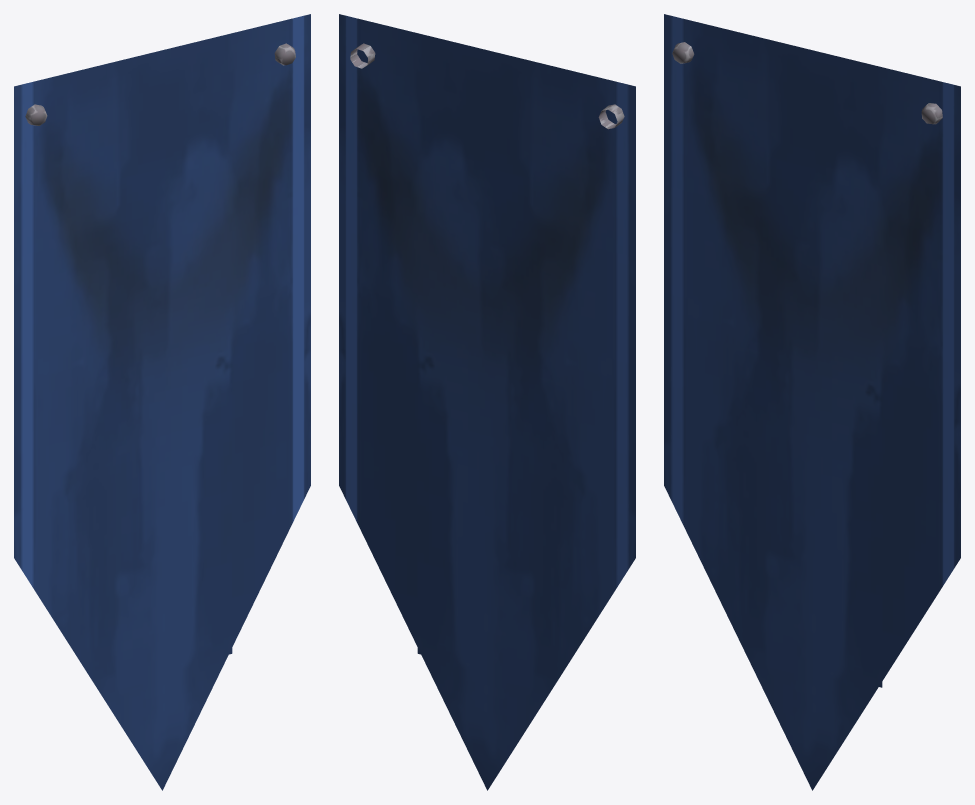
File: Banner_2_Cloth.glb
3 renders of one model, left to right at view 1: azimuth 30°, elevation 25°; view 2: azimuth 150°, elevation 25°; view 3: azimuth 330°, elevation 25°, orthographic.
Parts seen in each view (by area): view 1: Banner_2_Cloth; view 2: Banner_2_Cloth; view 3: Banner_2_Cloth.
Part boxes in pixels (x1,y1,x2,y2): Banner_2_Cloth: (14, 14, 310, 790); Banner_2_Cloth: (339, 14, 635, 790); Banner_2_Cloth: (664, 14, 960, 790).
Bounding box in the file's own units: 0.8101 × 1.93 × 0.0568.
Materials: 2 (2 with a texture image).
